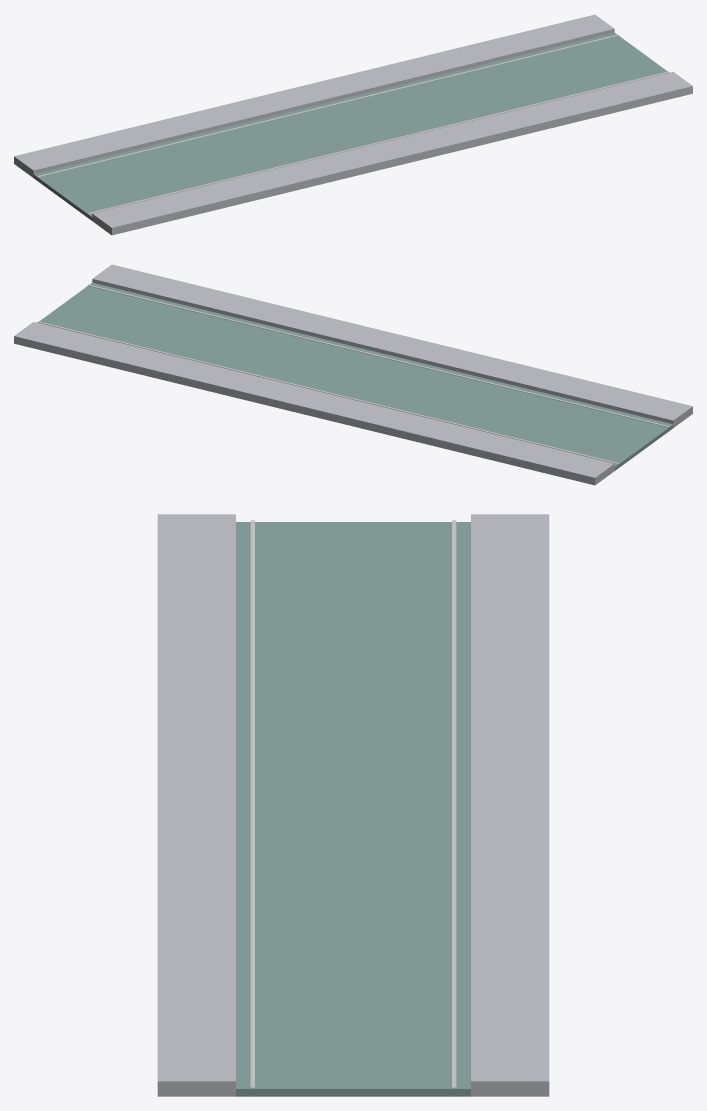
The model's file is 18_roads_plazas-09.glb.
3 views of the same model, one above another, from view 1: azimuth 30°, elevation 25°; view 2: azimuth 150°, elevation 25°; view 3: azimuth 270°, elevation 25° (orthographic). The views are drawn at different scales.
Bounding box in the file's own units: 24 × 0.3 × 7.
